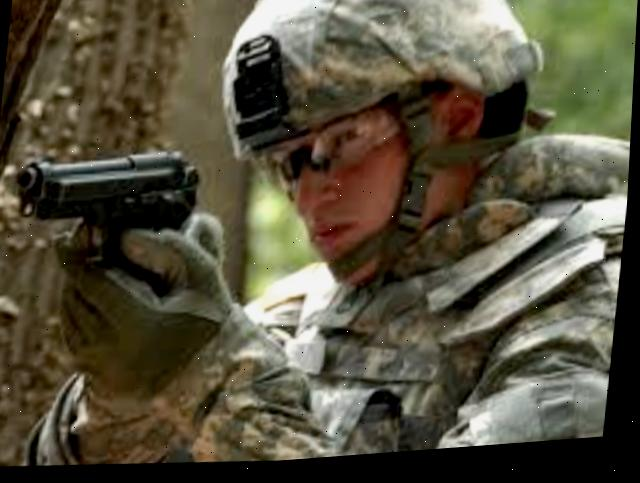pistol: (3, 121, 205, 308)
